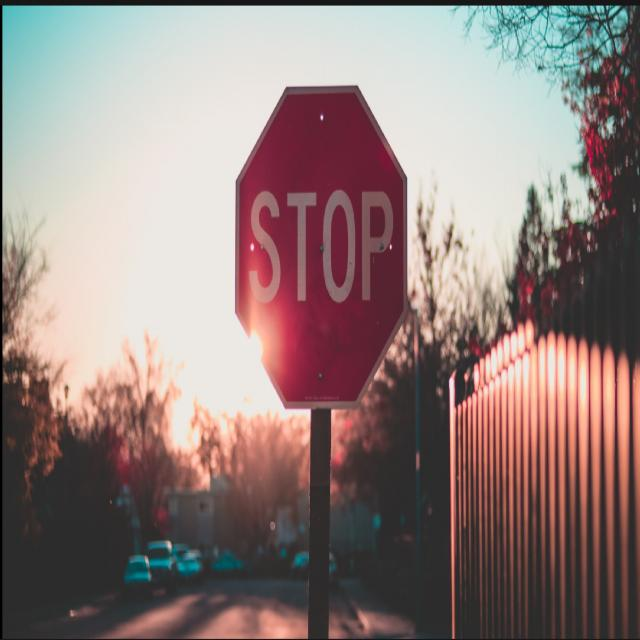stop-sign: (219, 67, 410, 396)
